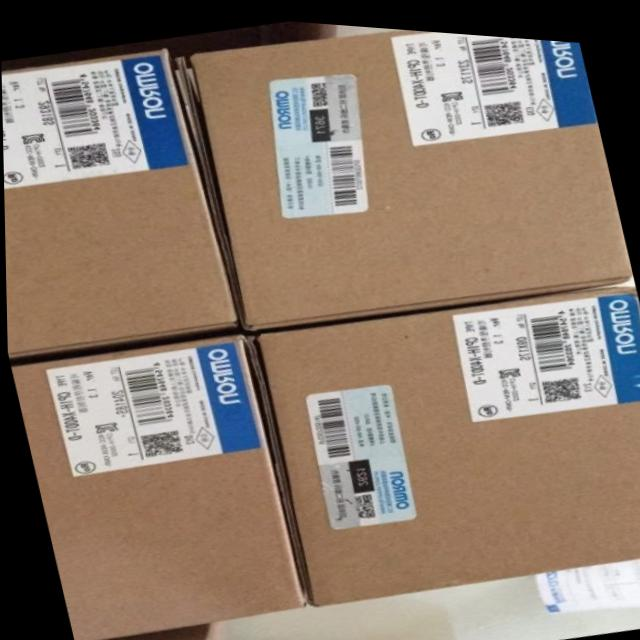box: (182, 23, 632, 326), (248, 275, 640, 601), (9, 329, 306, 640), (1, 44, 240, 358), (96, 617, 218, 640)
